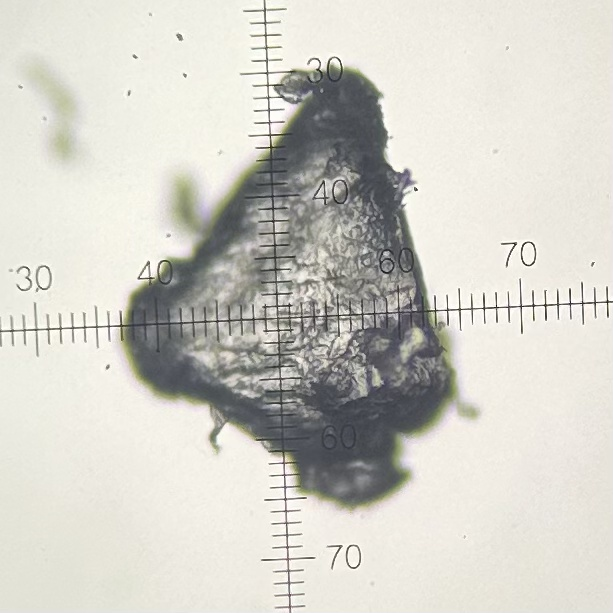microplastic: (122, 66, 482, 513)
